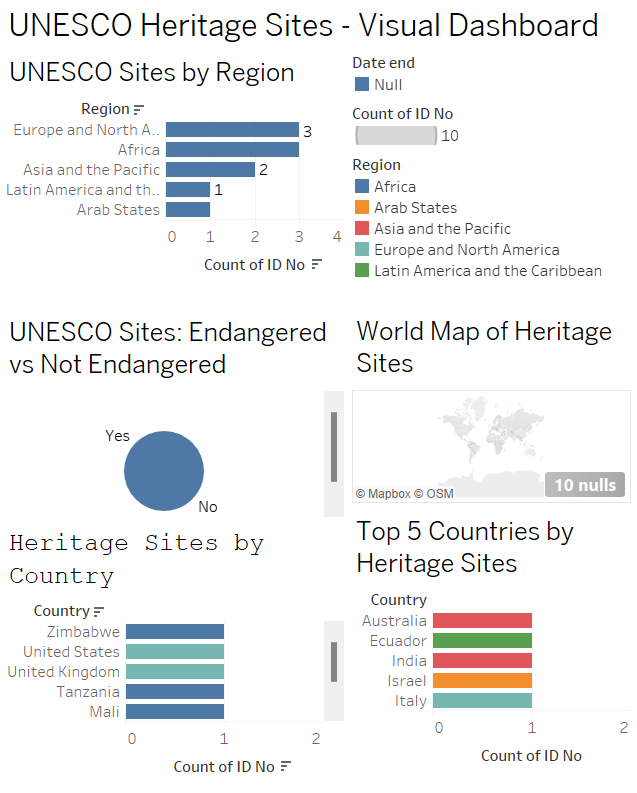

What the dashboard file says about the page in this screenshot:
{"tool":"tableau","page":{"name":"Dashboard 1","canvas":[650,860],"ordinal":0},"visuals":[{"type":"title","box":[8,8.6,634,49.3]},{"type":"worksheet","title":"Sheet 1","mark":"Automatic","rows":["Region"],"cols":["ID_No"],"box":[8,57.9,317,278.8]},{"type":"legend","title":"Sheet 2","param":"[federated.1c90ayu1maxi5c1117cug0e5948p].[none:Date_end:nk]","box":[325,57.9,317,54.7]},{"type":"legend","title":"Sheet 2","param":"[federated.1c90ayu1maxi5c1117cug0e5948p].[cnt:ID_No:qk]","box":[325,112.6,317,54.7]},{"type":"legend","title":"Sheet 3","param":"[federated.1c90ayu1maxi5c1117cug0e5948p].[none:Region:nk]","box":[325,167.3,317,119]},{"type":"worksheet","title":"Sheet 4","mark":"Automatic","box":[325,286.3,317,242.3]},{"type":"worksheet","title":"Sheet 2","mark":"Pie","box":[8,336.7,317,253.1]},{"type":"legend","title":"Sheet 4","param":"[federated.1c90ayu1maxi5c1117cug0e5948p].[none:Category:nk]","box":[325,528.7,317,61.1]},{"type":"worksheet","title":"Sheet 3","mark":"Automatic","rows":["Country"],"cols":["ID_No"],"box":[8,589.8,317,261.6]},{"type":"worksheet","title":"Sheet 5","mark":"Automatic","rows":["Country"],"cols":["ID_No"],"box":[325,589.8,317,261.6]}]}

Visuals, with their boxes on the page's 650x860 design canvas (x1, y1, x2, y2). These are canvas units, not pixel positions in the 637x793 screenshot, which may show the page scaled, cropped or inside an application window:
title: (8,9,642,58)
"Sheet 1" worksheet: (8,58,325,337)
"Sheet 2" legend: (325,58,642,113)
"Sheet 2" legend: (325,113,642,167)
"Sheet 3" legend: (325,167,642,286)
"Sheet 4" worksheet: (325,286,642,529)
"Sheet 2" worksheet (Pie marks): (8,337,325,590)
"Sheet 4" legend: (325,529,642,590)
"Sheet 3" worksheet: (8,590,325,851)
"Sheet 5" worksheet: (325,590,642,851)
